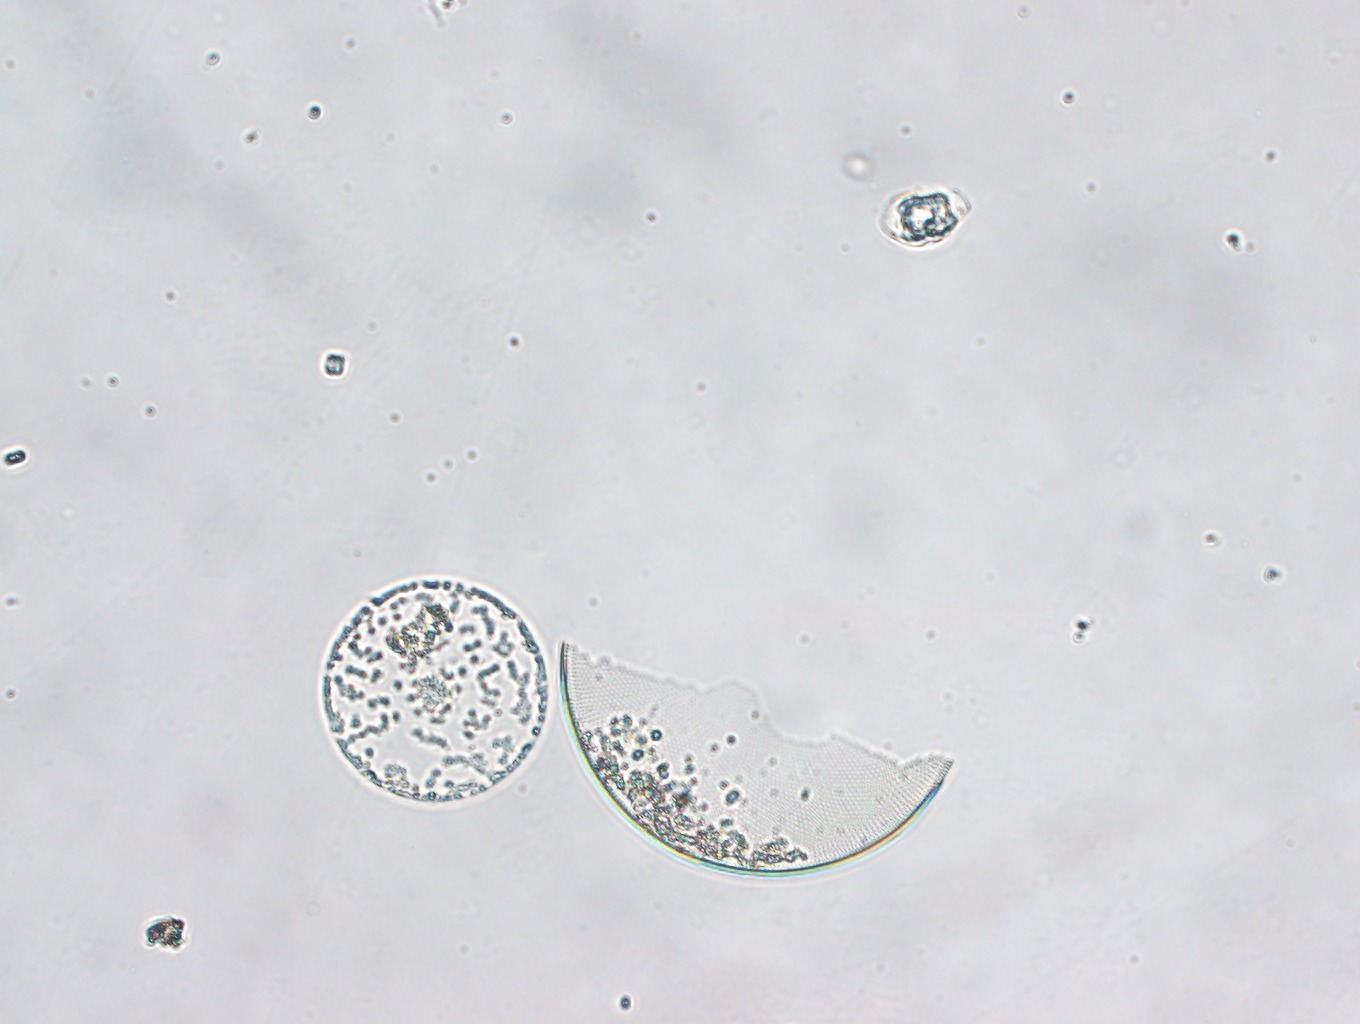coscinodiscus: (555, 642, 956, 878), (320, 578, 547, 806)
